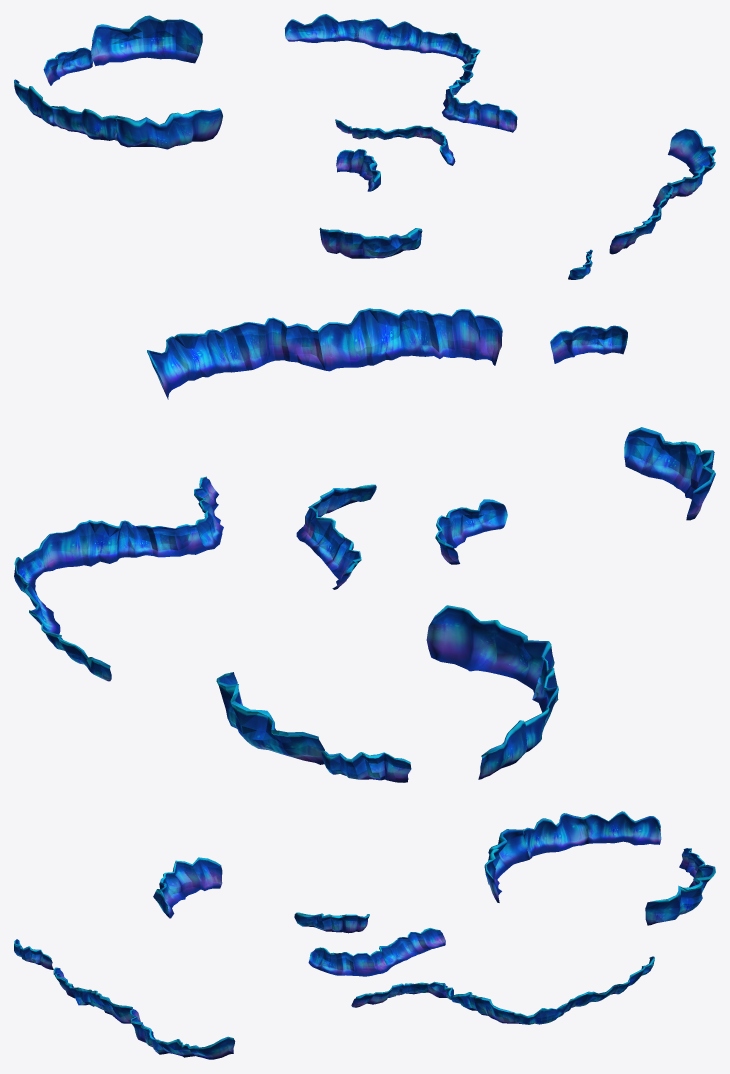
File: Sea_dimian00111.FBX
3 views of the same model, one above another, from view 1: azimuth 30°, elevation 25°; view 2: azimuth 150°, elevation 25°; view 3: azimuth 270°, elevation 25° (orthographic). The views are drawn at different scales.
Parts seen in each view (by area): view 1: Object011, Object009, Object006, Object001, Object003, Object008, Object007, Object005, Object004, Object010; view 2: Object001, Object011, Object006, Object003, Object005, Object009, Object004, Object010, Object002, Object008; view 3: Object011, Object005, Object001, Object006, Object003, Object009, Object004, Object002, Object007, Object010.
Boxes of the visible parts, left/top/right/bottom form: Object011: left=14, top=79, right=222, bottom=149; Object009: left=91, top=15, right=202, bottom=66; Object006: left=419, top=31, right=517, bottom=132; Object001: left=609, top=128, right=715, bottom=254; Object003: left=319, top=227, right=422, bottom=258; Object008: left=284, top=14, right=361, bottom=42; Object007: left=358, top=18, right=422, bottom=51; Object005: left=335, top=119, right=455, bottom=165; Object004: left=336, top=149, right=380, bottom=191; Object010: left=43, top=47, right=92, bottom=85; Object001: left=147, top=308, right=502, bottom=399; Object011: left=426, top=605, right=558, bottom=779; Object006: left=14, top=476, right=223, bottom=596; Object003: left=624, top=427, right=715, bottom=520; Object005: left=296, top=484, right=376, bottom=589; Object009: left=216, top=672, right=324, bottom=764; Object004: left=435, top=499, right=507, bottom=564; Object010: left=321, top=750, right=411, bottom=782; Object002: left=550, top=325, right=627, bottom=363; Object008: left=41, top=623, right=111, bottom=681; Object011: left=484, top=811, right=661, bottom=902; Object005: left=308, top=928, right=445, bottom=976; Object001: left=53, top=967, right=235, bottom=1059; Object006: left=351, top=981, right=568, bottom=1024; Object003: left=153, top=857, right=222, bottom=918; Object009: left=645, top=864, right=715, bottom=925; Object004: left=294, top=912, right=369, bottom=933; Object002: left=14, top=939, right=53, bottom=969; Object007: left=565, top=984, right=619, bottom=1012; Object010: left=679, top=848, right=705, bottom=879.
Bounding box in the file's own units: 63889 × 5634 × 84611.
